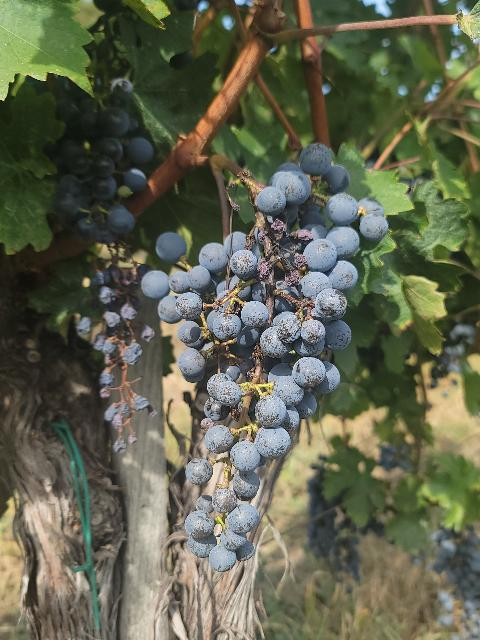grapes: (142, 144, 388, 571), (52, 79, 155, 452)
